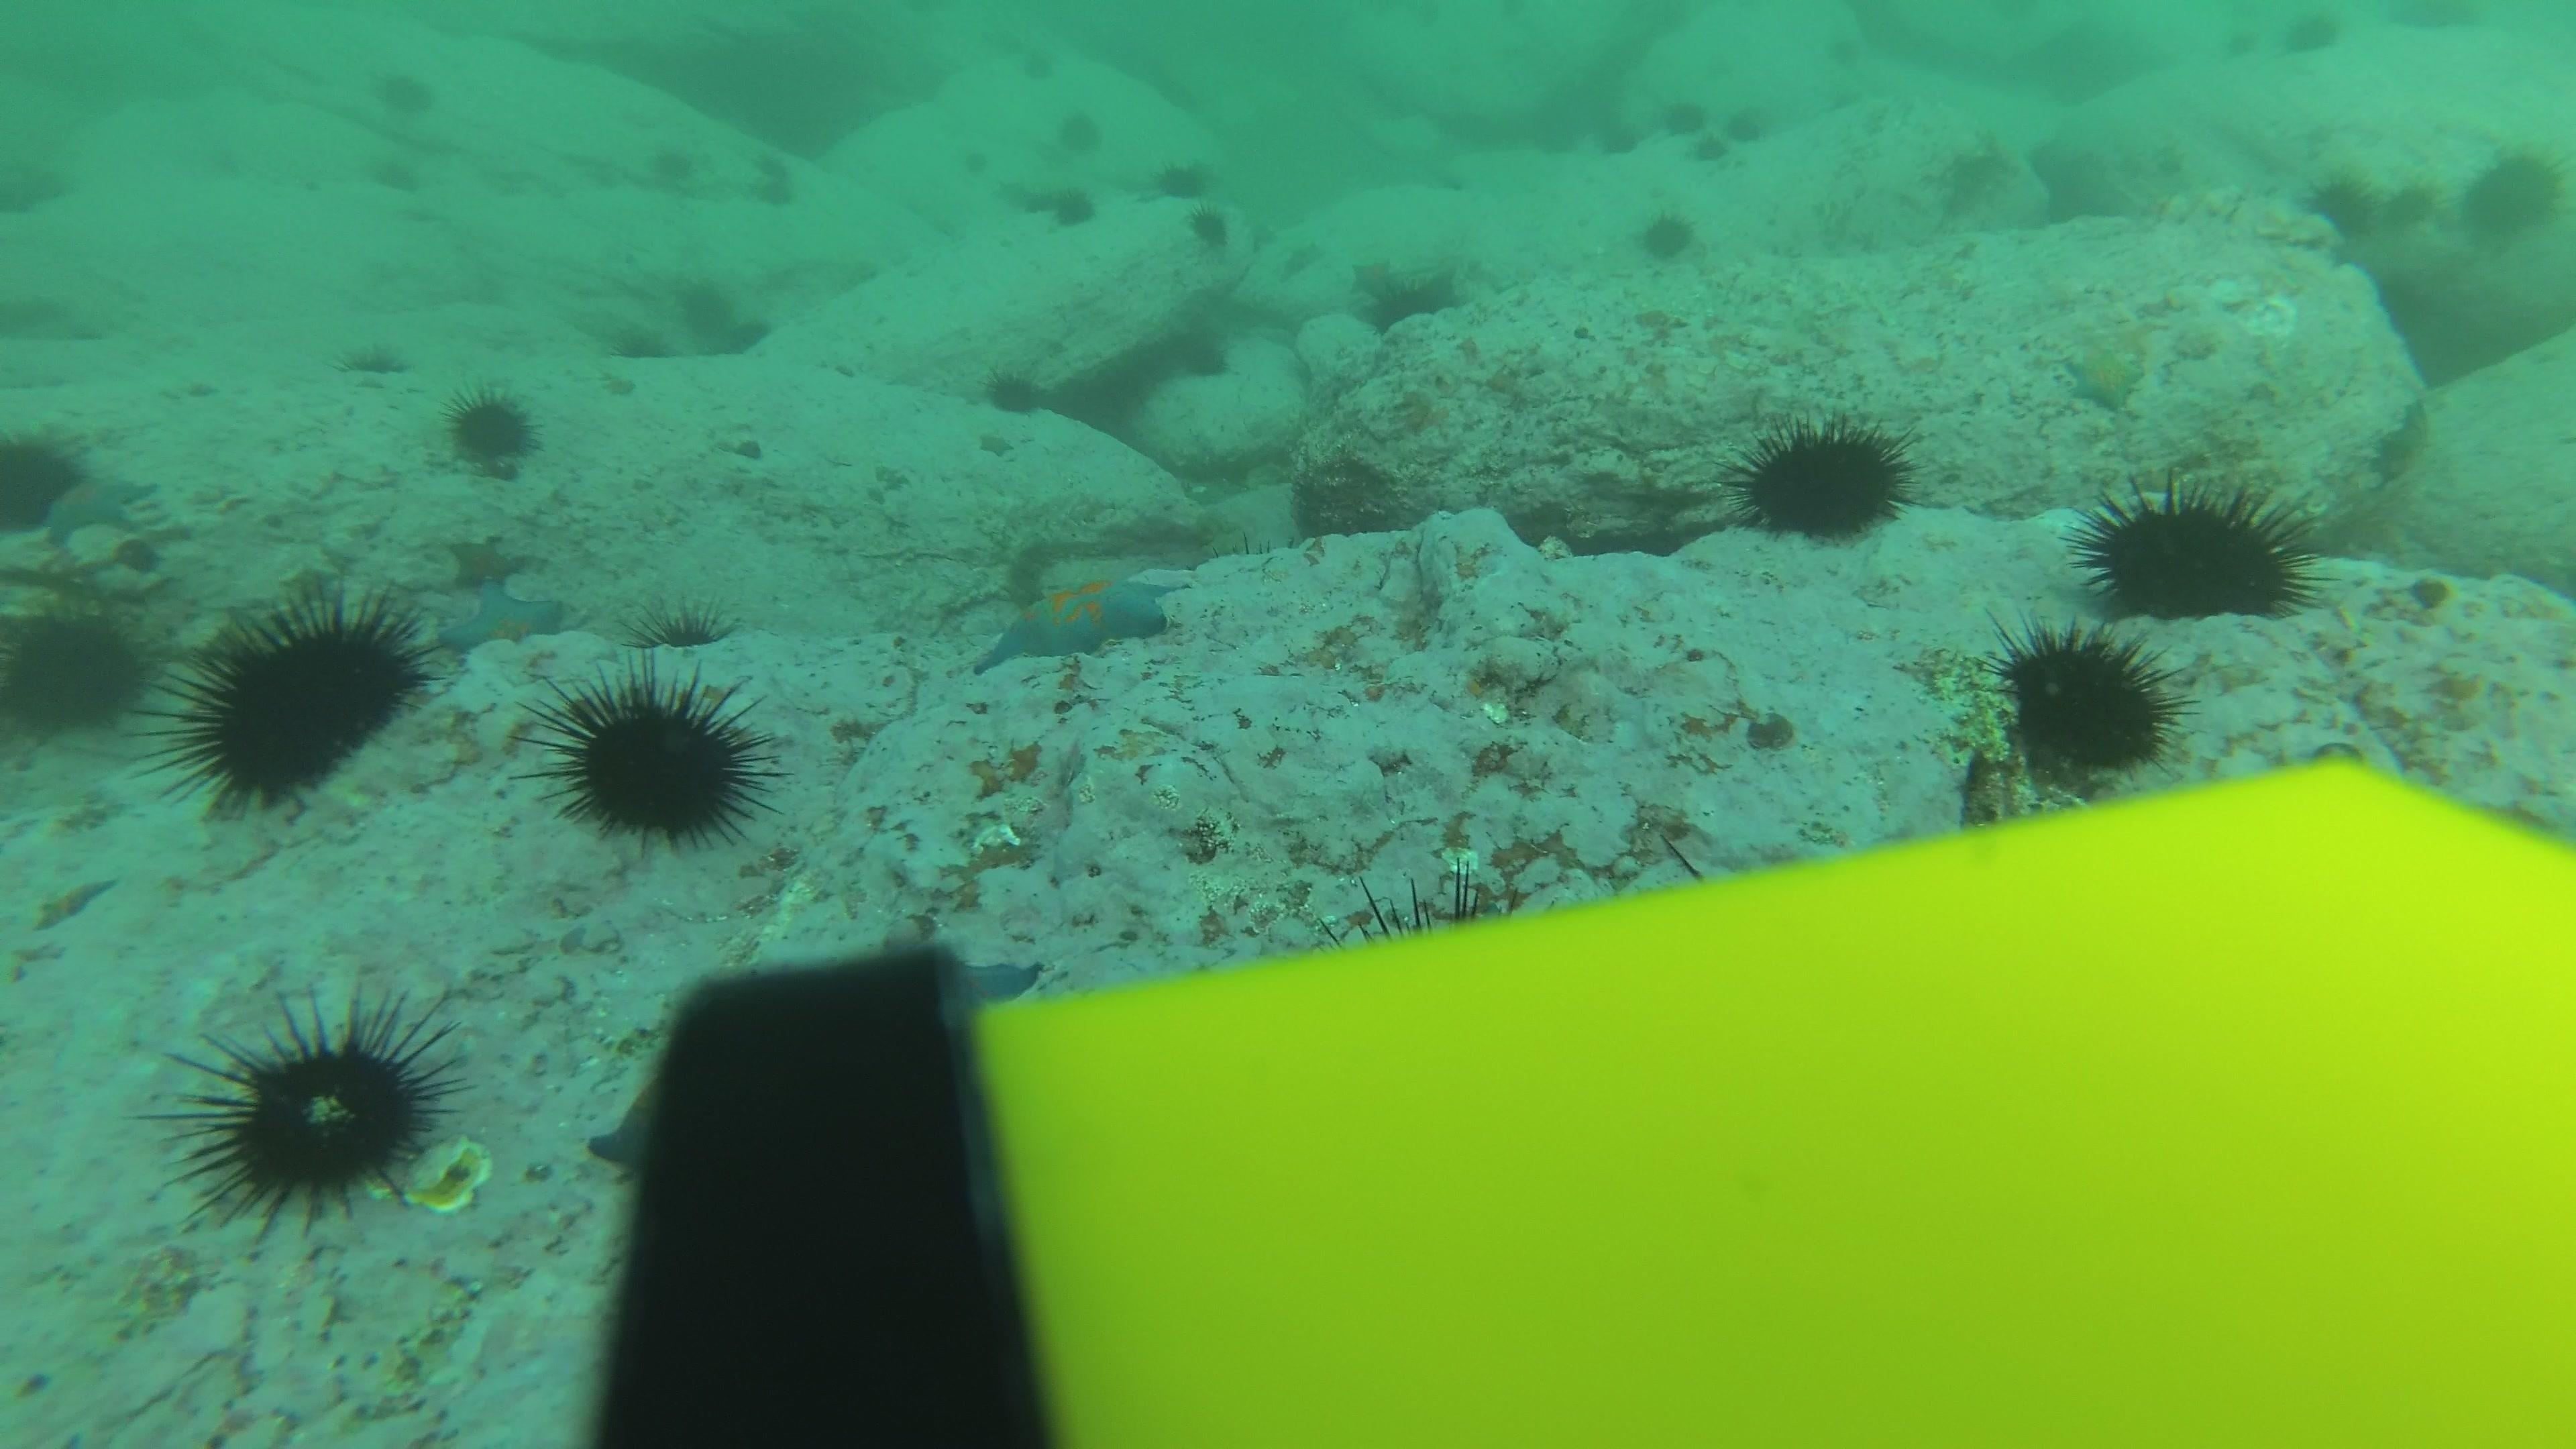echinus: (170, 985, 462, 1226), (159, 584, 435, 816), (538, 662, 773, 855), (2074, 469, 2319, 630), (1990, 616, 2185, 777), (1732, 410, 1918, 547), (2, 603, 152, 741), (1286, 446, 1412, 548), (2459, 142, 2565, 248), (0, 421, 92, 538), (441, 384, 541, 478), (2304, 166, 2380, 242), (327, 338, 418, 398), (672, 274, 747, 338), (649, 598, 725, 651), (1635, 205, 1698, 265), (980, 361, 1044, 419), (2279, 4, 2346, 57), (382, 69, 448, 120), (648, 131, 713, 182), (361, 149, 425, 200), (1375, 281, 1440, 329), (720, 317, 782, 366), (1056, 111, 1102, 157), (1157, 157, 1203, 203), (1276, 234, 1322, 280), (1056, 186, 1102, 230), (1182, 203, 1226, 249), (1180, 334, 1224, 380), (2224, 23, 2272, 65), (1594, 126, 1642, 161), (1658, 104, 1706, 140), (1718, 117, 1766, 152), (1815, 34, 1863, 69), (1537, 120, 1585, 156), (1677, 133, 1723, 168), (750, 147, 798, 180), (957, 147, 1005, 180), (757, 179, 796, 211), (1030, 191, 1060, 218), (1019, 50, 1049, 76)
starfish: (973, 561, 1184, 676), (433, 582, 570, 656), (582, 1065, 669, 1180), (39, 467, 159, 543), (21, 867, 122, 934), (2056, 341, 2148, 414), (2254, 203, 2342, 262), (446, 533, 517, 589), (1352, 251, 1399, 287)
